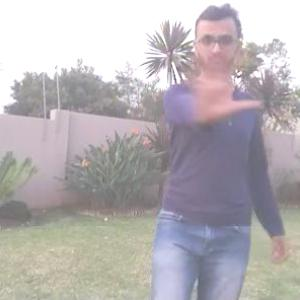follow_hand: (179, 40, 264, 120)
